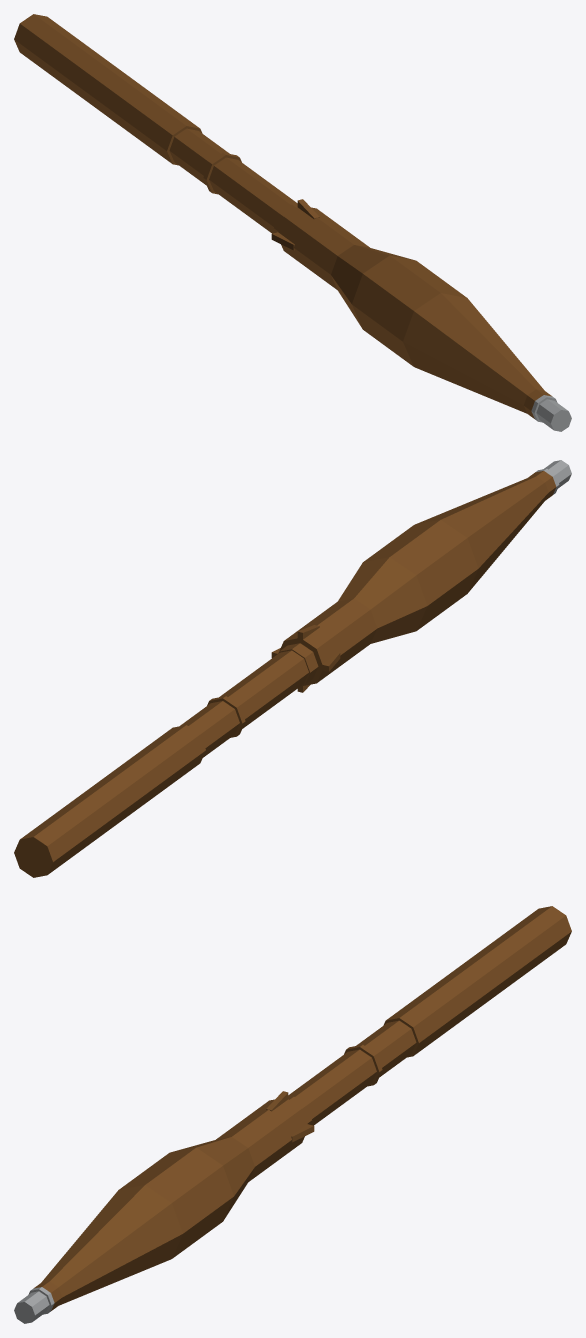
3 renders of one model, top to bottom at view 1: azimuth 30°, elevation 25°; view 2: azimuth 150°, elevation 25°; view 3: azimuth 330°, elevation 25°, orthographic.
Parts seen in each view (by area): view 1: pg7v; view 2: pg7v; view 3: pg7v.
Part boxes in pixels (bbox=[...]): pg7v: bbox=[14, 14, 571, 431]; pg7v: bbox=[14, 460, 571, 877]; pg7v: bbox=[14, 906, 571, 1323].
Bounding box in the file's own units: 0.0786 × 0.0786 × 0.95.
Materials: 1 (1 with a texture image).
